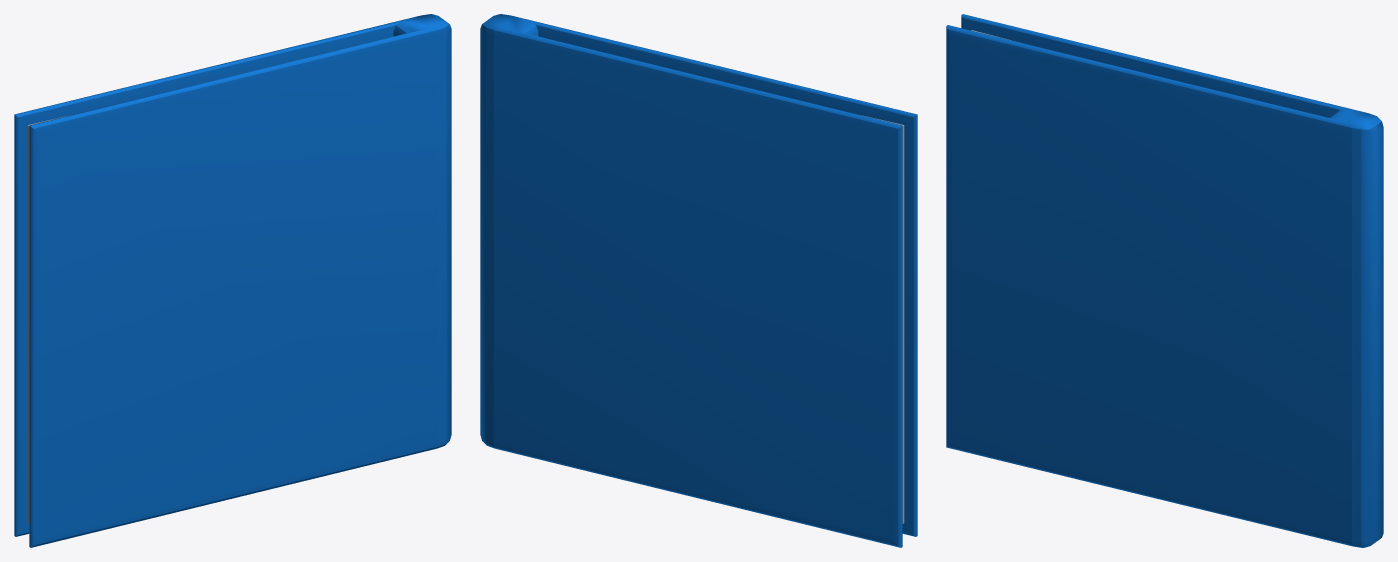
The model's file is book_4.glb.
3 views of the same model, side by side, from view 1: azimuth 30°, elevation 25°; view 2: azimuth 150°, elevation 25°; view 3: azimuth 330°, elevation 25° (orthographic).
Parts seen in each view (by area): view 1: Cube.020; view 2: Cube.020; view 3: Cube.020.
Part boxes in pixels (left/top/right/bottom): Cube.020: left=14, top=14, right=451, bottom=547; Cube.020: left=480, top=14, right=917, bottom=547; Cube.020: left=946, top=14, right=1383, bottom=547.
Bounding box in the file's own units: 0.2012 × 0.1911 × 0.0152.
Materials: 1 (1 with a texture image).
